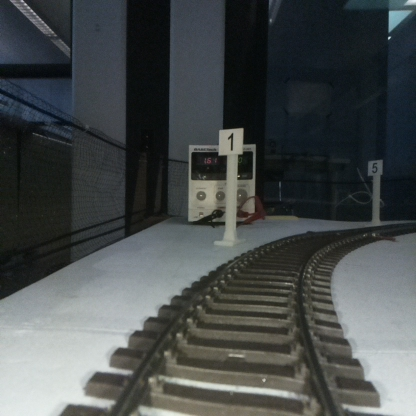white-info-1: (219, 130, 241, 243)
white-info-5: (368, 159, 382, 224)
